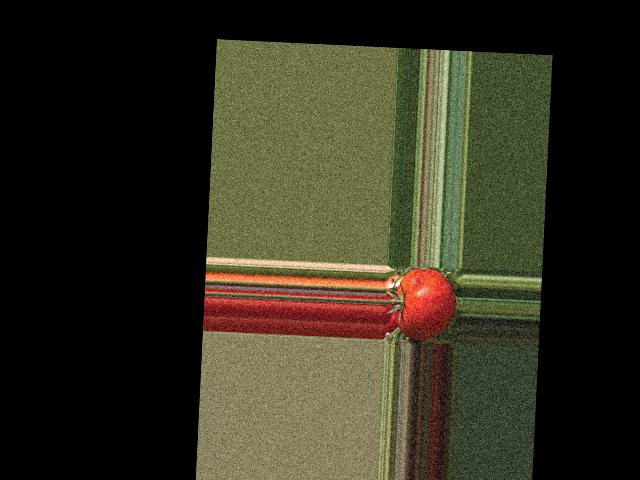tomato: (393, 267, 457, 341)
